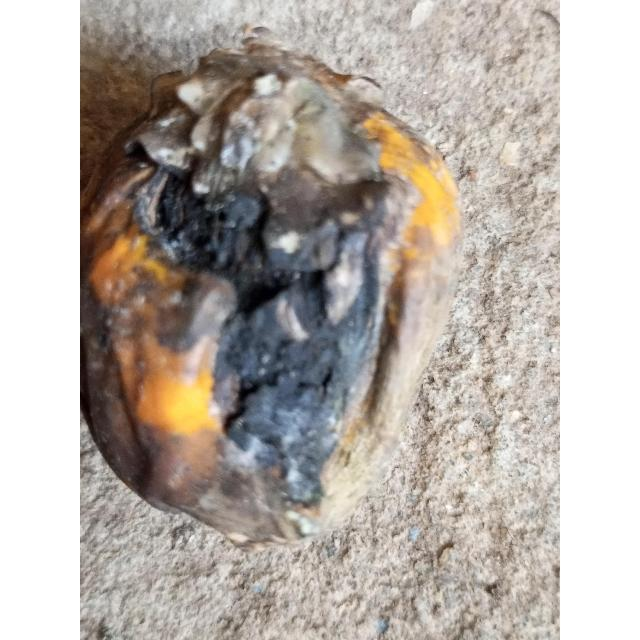damaged: (80, 29, 462, 549)
